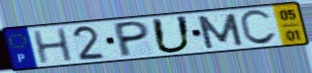2: (70, 24, 108, 63)
C: (238, 8, 279, 47)
H: (31, 27, 76, 66)
M: (194, 12, 246, 50)
P: (114, 19, 152, 59)
U: (149, 14, 194, 55)
